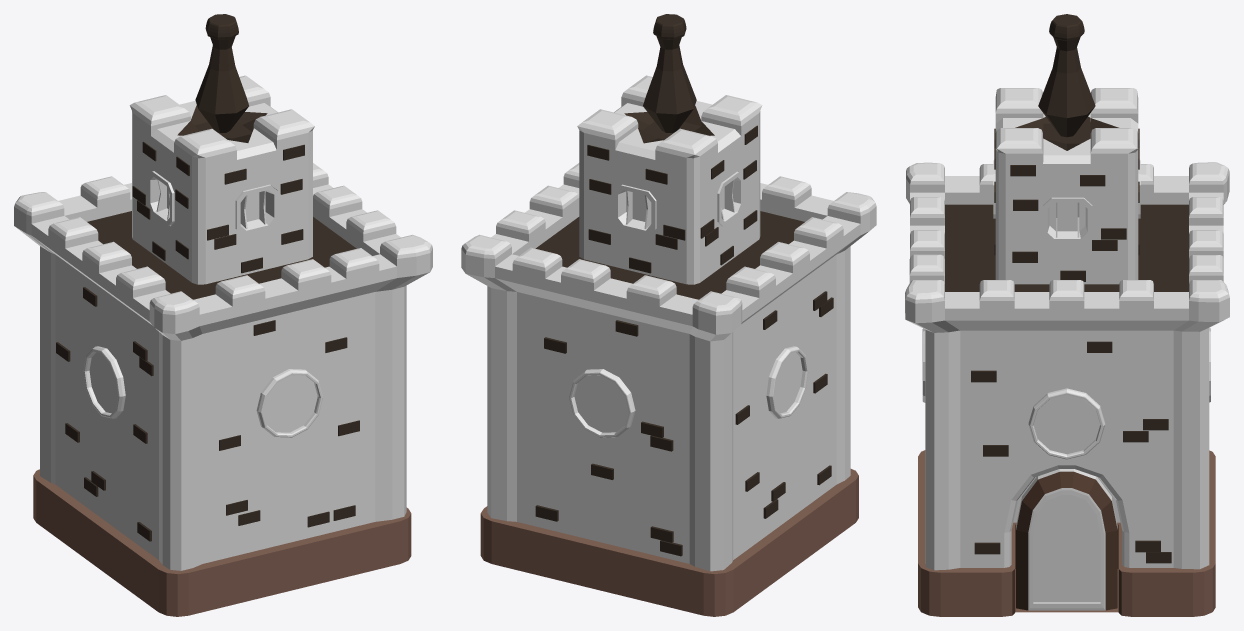
File: Tower_Def_2_Gray.fbx
3 views of the same model, side by side, from view 1: azimuth 30°, elevation 25°; view 2: azimuth 150°, elevation 25°; view 3: azimuth 270°, elevation 25° (orthographic). The views are drawn at different scales.
Visible parts, largest first — view 1: Cube.040, Cube.041, Cube.006, Cube.075, Cylinder.012, Cylinder.010, Cylinder.009, Cube.042, Cube.044; view 2: Cube.040, Cube.041, Cube.006, Cube.075, Cylinder.012, Cylinder.008, Cylinder.009, Cube.042, Cube.044; view 3: Cube.040, Cube.041, Cube.046, Cube.006, Cube.075, Cylinder.012, Cylinder.011, Cube.044.
Boxes of the visible parts, x1,y1,x2,y2 form: Cube.040: [14, 163, 432, 570]; Cube.041: [129, 75, 314, 284]; Cube.006: [33, 469, 411, 616]; Cube.075: [56, 141, 359, 541]; Cylinder.012: [195, 14, 248, 132]; Cylinder.010: [256, 369, 322, 437]; Cylinder.009: [83, 346, 125, 418]; Cube.042: [235, 184, 277, 235]; Cube.044: [148, 171, 174, 225]; Cube.040: [461, 163, 876, 571]; Cube.041: [577, 75, 762, 284]; Cube.006: [480, 469, 858, 616]; Cube.075: [535, 125, 833, 556]; Cylinder.012: [643, 14, 696, 132]; Cylinder.008: [569, 369, 635, 437]; Cylinder.009: [766, 346, 808, 418]; Cube.042: [614, 184, 656, 234]; Cube.044: [717, 171, 743, 226]; Cube.040: [905, 162, 1229, 570]; Cube.041: [995, 88, 1138, 284]; Cube.046: [1016, 469, 1117, 610]; Cube.006: [918, 450, 1215, 616]; Cube.075: [971, 128, 1171, 563]; Cylinder.012: [1038, 14, 1095, 137]; Cylinder.011: [1028, 388, 1105, 459]; Cube.044: [1043, 197, 1092, 243].
Size of the model in its own units: 825 by 1499 by 826.
